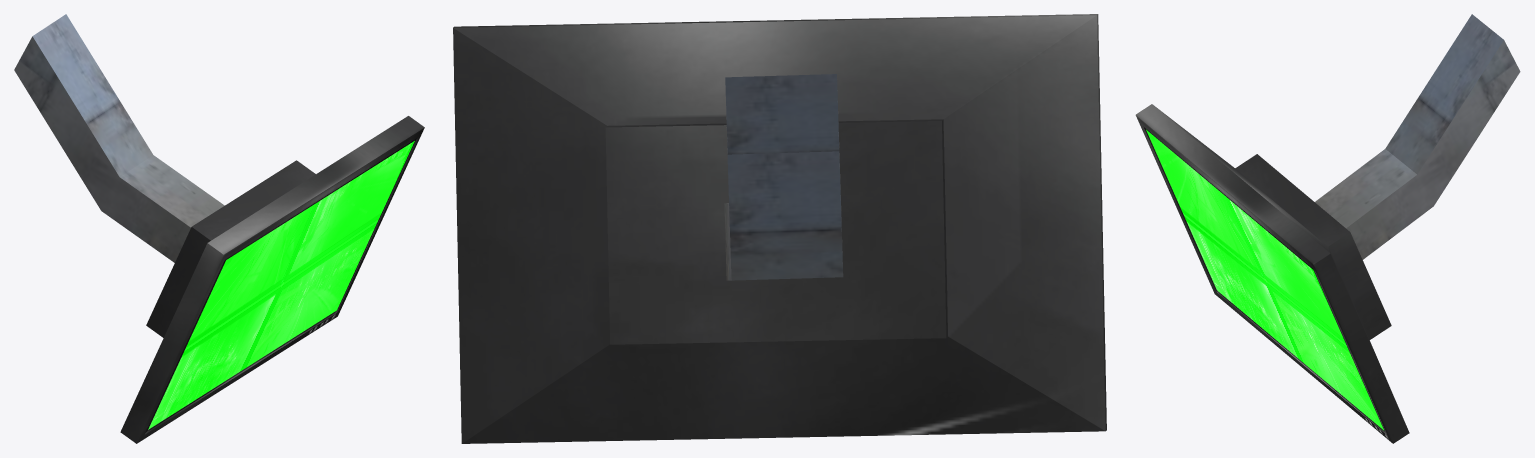
3 renders of one model, left to right at view 1: azimuth 30°, elevation 25°; view 2: azimuth 150°, elevation 25°; view 3: azimuth 270°, elevation 25°, orthographic. The views are drawn at different scales.
Parts seen in each view (by area): view 1: Management_008_Emissor_Verde_0.001; view 2: Management_008_Emissor_Verde_0.001; view 3: Management_008_Emissor_Verde_0.001.
Boxes of the visible parts, box(x1,y1,x2,y2) form: Management_008_Emissor_Verde_0.001: box(14, 14, 424, 443); Management_008_Emissor_Verde_0.001: box(453, 14, 1106, 443); Management_008_Emissor_Verde_0.001: box(1135, 14, 1520, 443).
Bounding box in the file's own units: 0.9665 × 0.8381 × 0.9588.
Materials: 3 (3 with a texture image).
